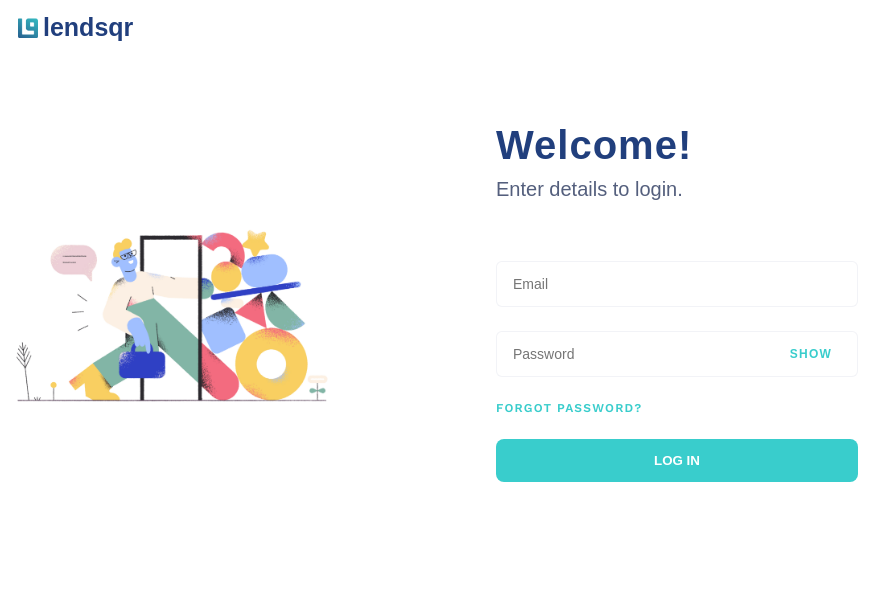
Test case: Login Component › prevents login with invalid password
Type "test@example.com" into the field with placeholder "Email" at [677, 284], box [496,260,858,306]
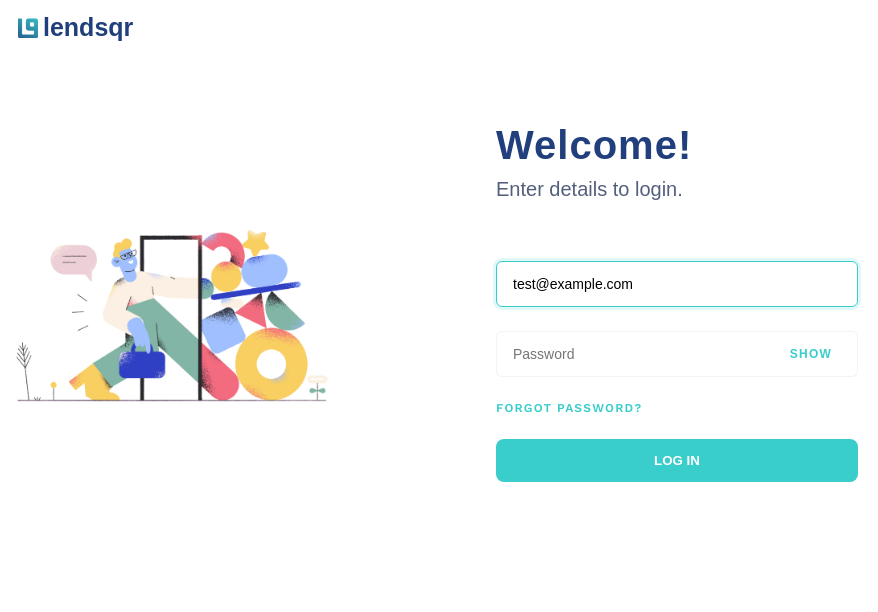
Type "weak" into the password field with placeholder "Password" at [677, 354], box [496,330,858,376]
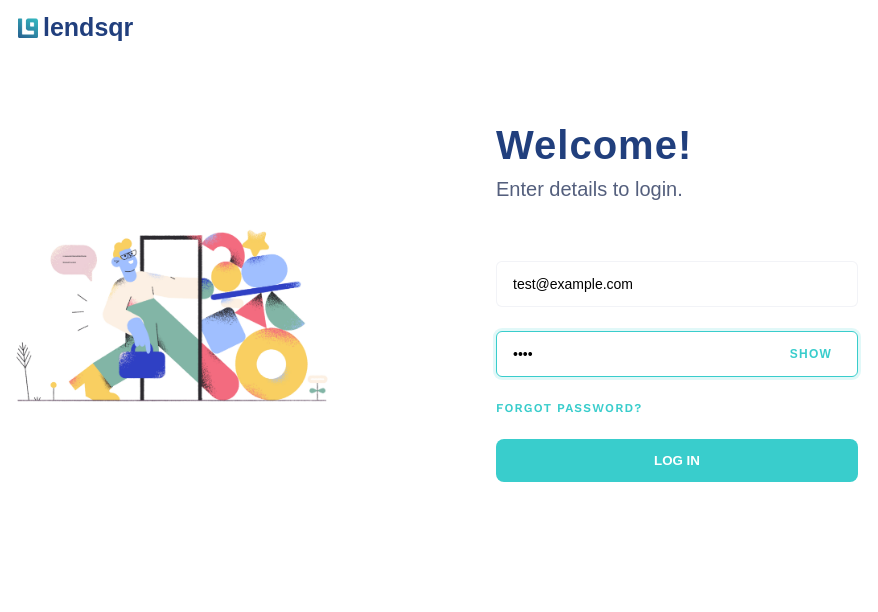
Click the button "LOG IN" at [677, 460], box [496,438,858,482]
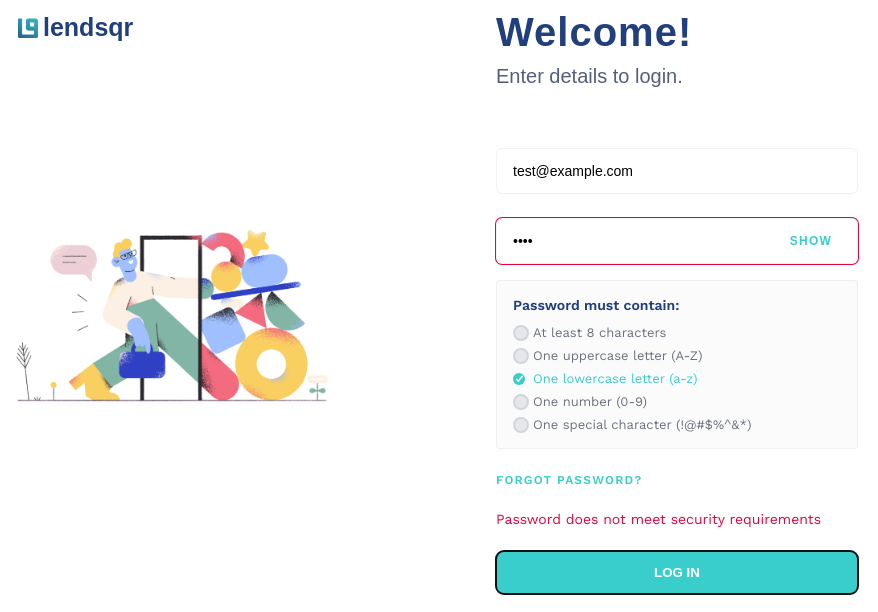
Expected: the message shows "security requirements", [496,511,821,527]
